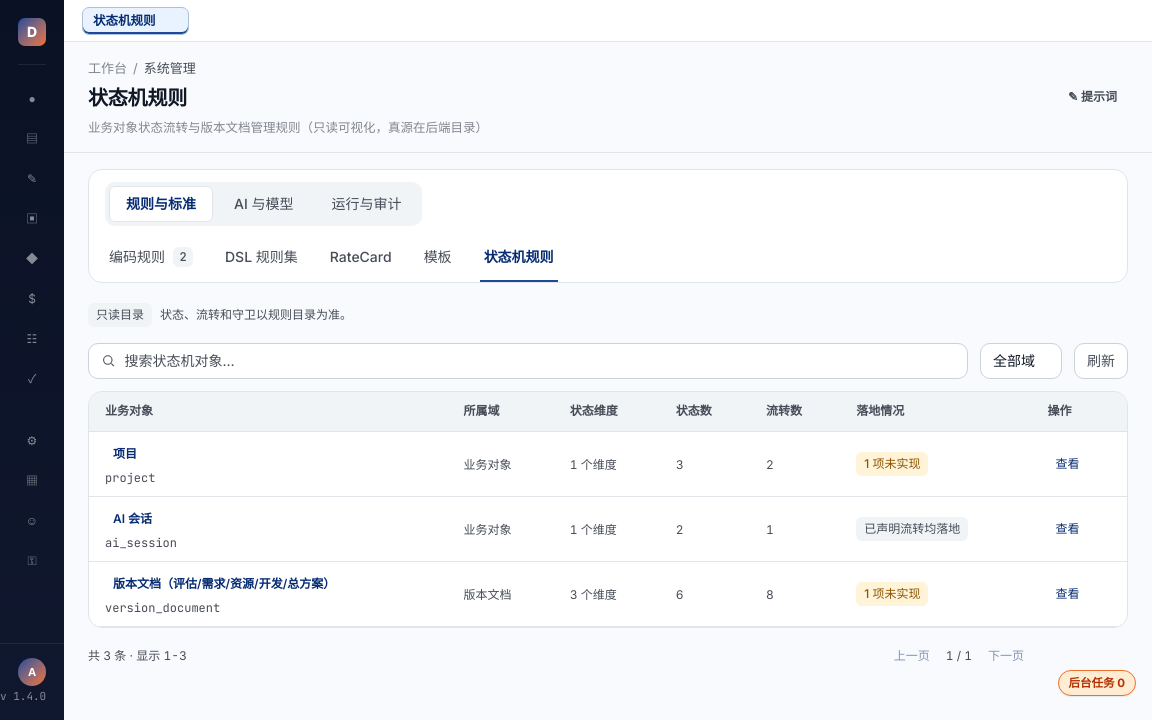
Test: 系统管理 · 状态机规则可视化页 › 列表同时展示业务对象与版本文档，源码只在详情可见
Expected: the button "项目" is shown, left=105, top=440, right=145, bottom=468
Expected: the button "版本文档（评估/需求/资源/开发/总方案）" is shown, left=105, top=570, right=343, bottom=598
Click the button with aria-label "查看 项目".
click(1067, 464)  # box left=1047, top=448, right=1087, bottom=480
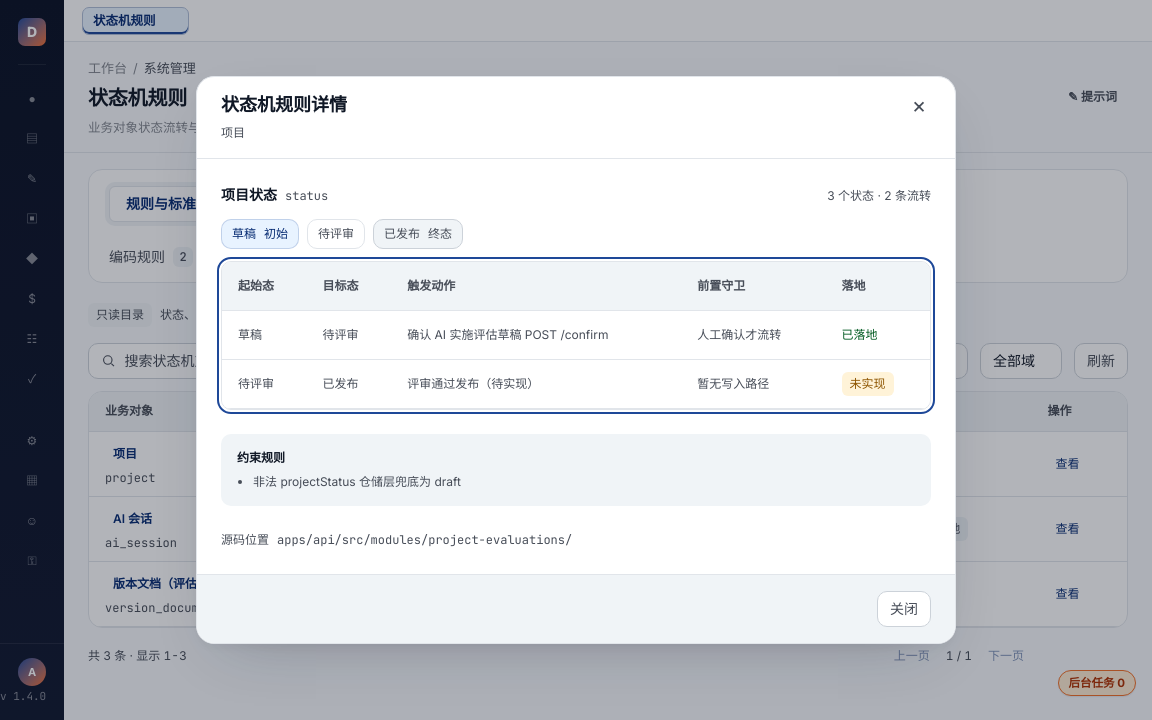
Expected: the text "apps/api/src/modules/project-evaluations/" is shown, left=277, top=532, right=572, bottom=548
